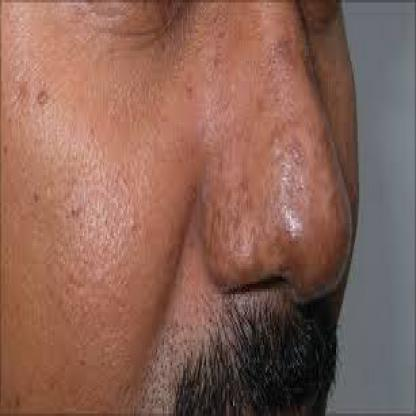darkspot: (50, 119, 144, 368), (255, 33, 324, 261), (207, 178, 260, 263), (15, 51, 60, 124)
